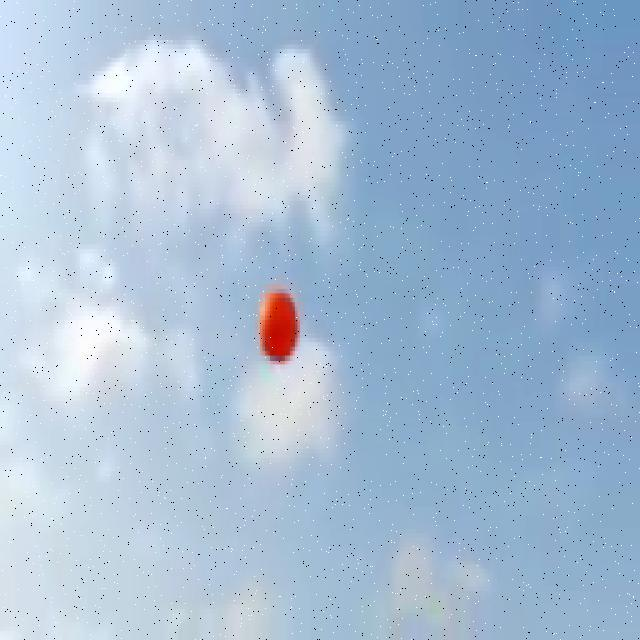red: (258, 286, 298, 363)
